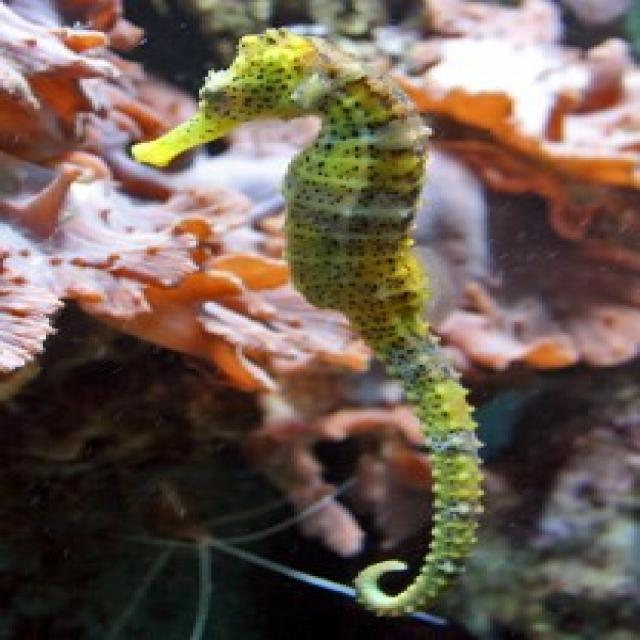Seahorse: (132, 18, 513, 624)
